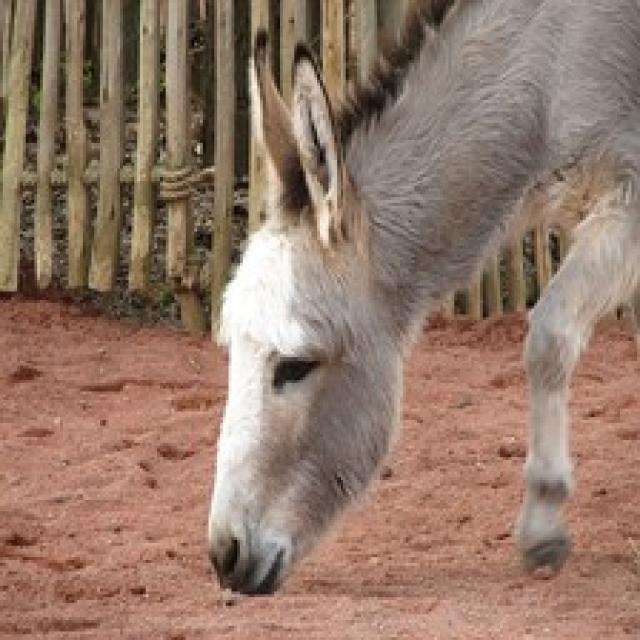Donkey: (202, 0, 637, 594)
